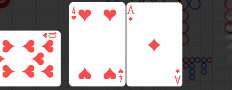10H: (41, 31, 57, 39)
4H: (117, 67, 124, 83)
AD: (173, 67, 181, 85)
